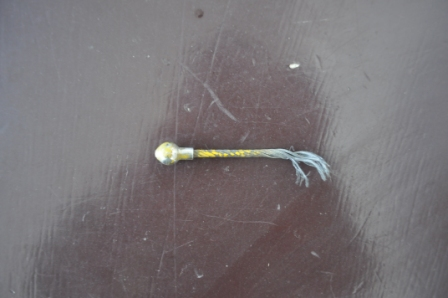METAL WIRE: (154, 141, 340, 188)
